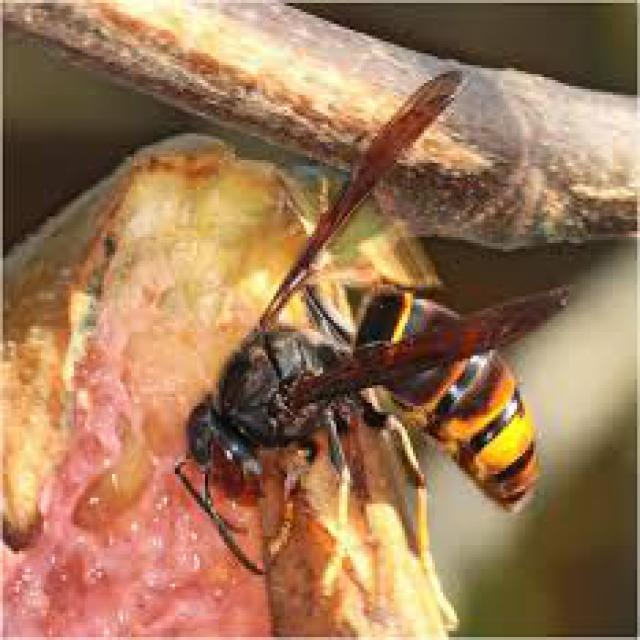Vespa Velutina: (167, 59, 577, 637)
